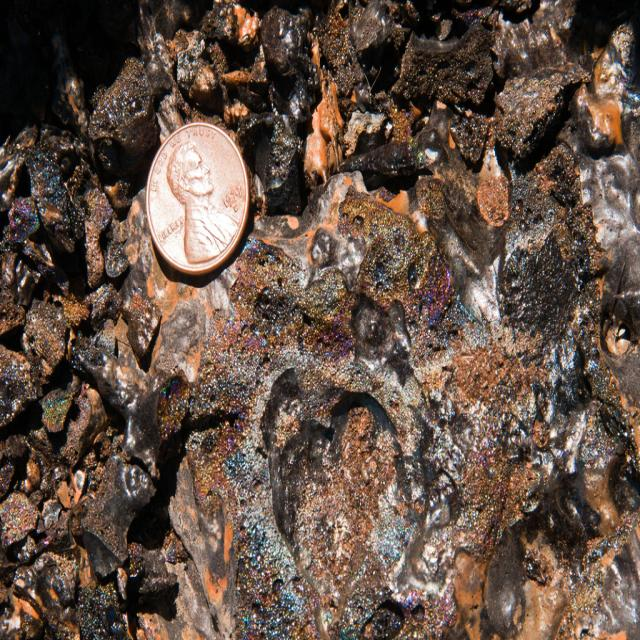Coin: (146, 118, 252, 275)
